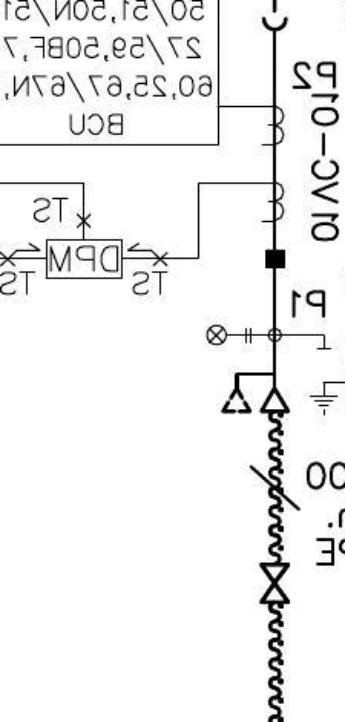22_ll: (205, 323, 253, 347)
DPM: (44, 238, 125, 281)
terminator_splicing_kits: (259, 562, 291, 605)
terminator_w_future: (220, 370, 292, 415)
